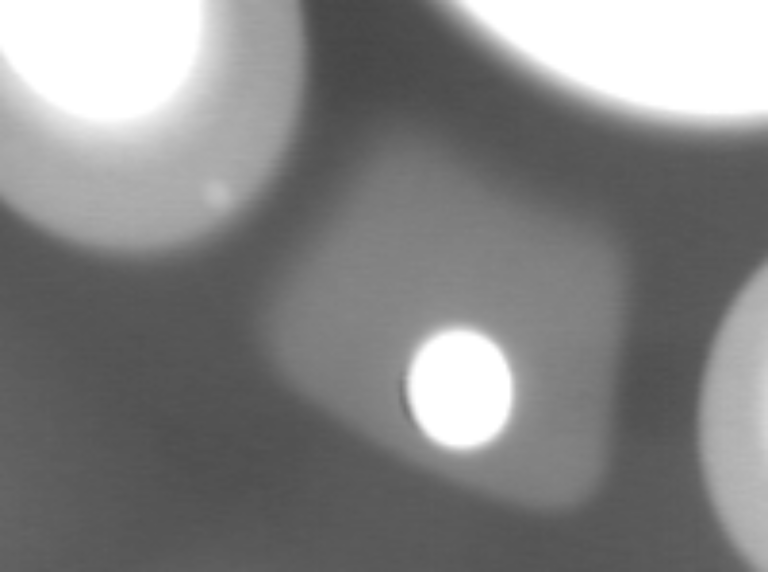defect: (204, 192, 242, 225)
